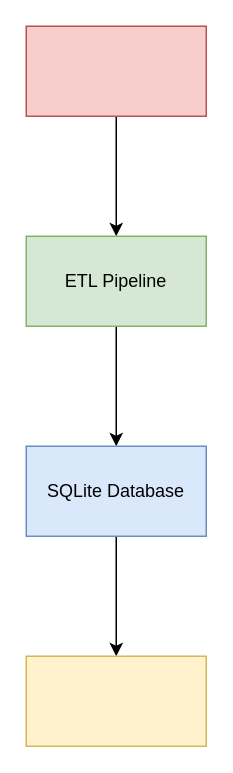
The diagram is 233 pixels wide and 773 high, and some of its shapes have lost their labels. The shapes that lost their labels are listed below. From the top down, each one's centre as x and y in pixels, then its label:
At pixel 115 70: "MoMo XML SMS".
At pixel 115 700: "Dashboard (HTML/JS)".
